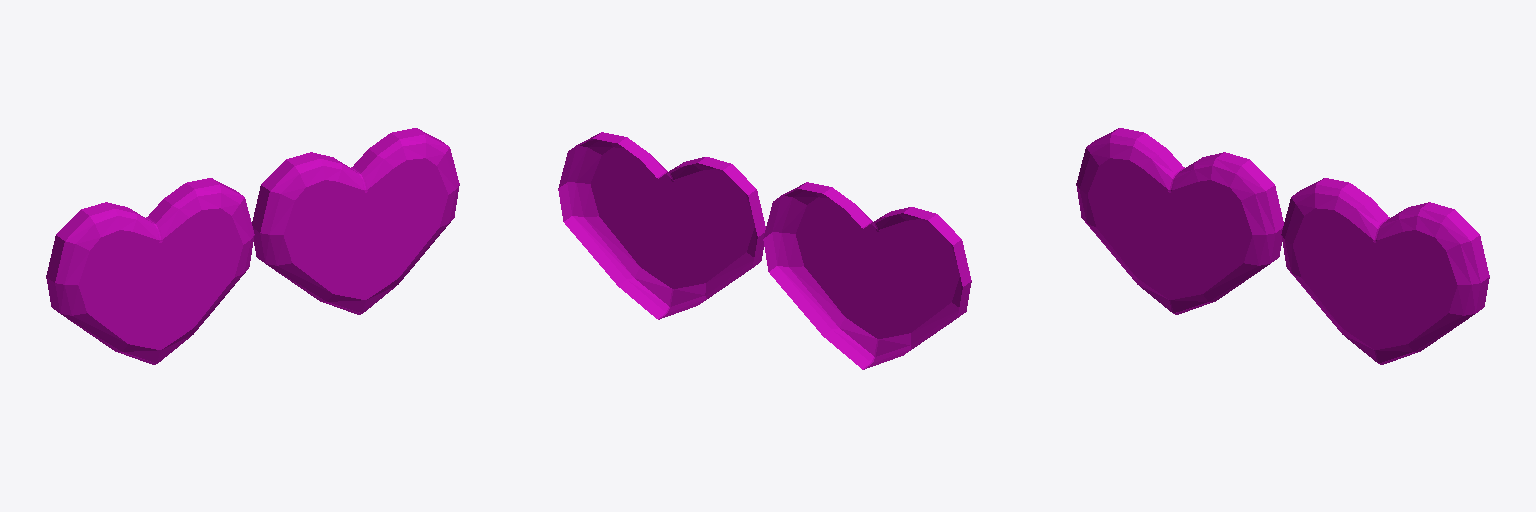
File: 2hearts.obj
3 views of the same model, side by side, from view 1: azimuth 30°, elevation 25°; view 2: azimuth 150°, elevation 25°; view 3: azimuth 330°, elevation 25° (orthographic).
Parts seen in each view (by area): view 1: Plane.001; view 2: Plane.001; view 3: Plane.001.
Part boxes in pixels (left/top/right/bottom): Plane.001: left=46, top=128, right=459, bottom=364; Plane.001: left=558, top=132, right=971, bottom=369; Plane.001: left=1076, top=128, right=1489, bottom=364.
Bounding box in the file's own units: 0.3252 × 0.1277 × 0.0209.